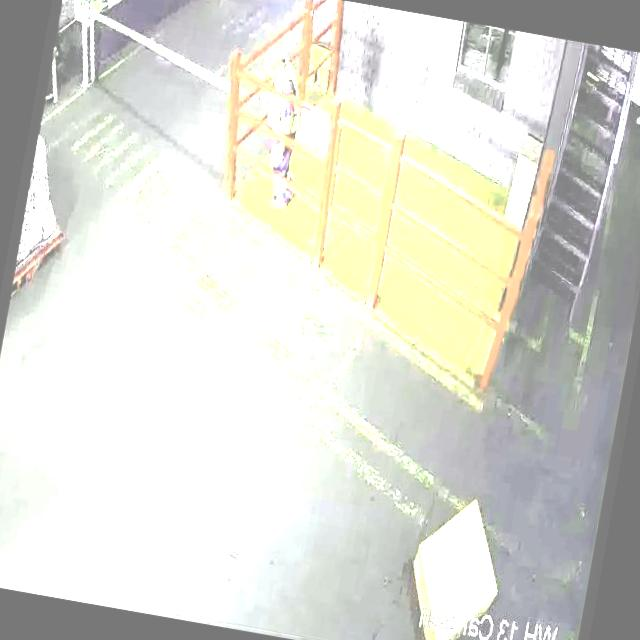Box: (397, 486, 514, 640)
